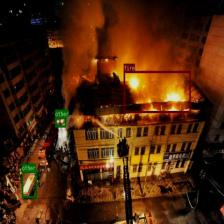fire: (124, 70, 190, 113)
